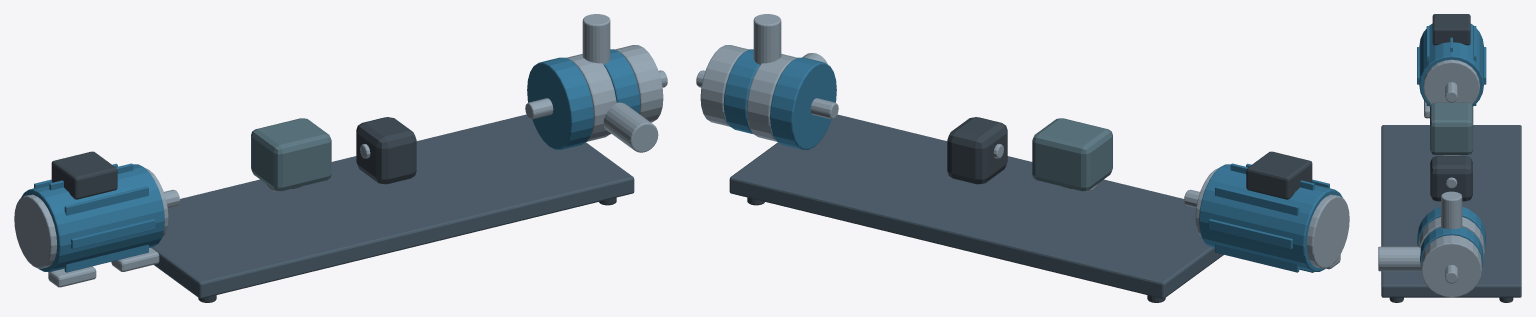
The model's file is feed-water-pump-lod1.glb.
The picture shows the model from 3 angles, left to right: view 1: azimuth 30°, elevation 25°; view 2: azimuth 150°, elevation 25°; view 3: azimuth 270°, elevation 25°; orthographic projection. The views are drawn at different scales.
Visible parts, largest first — view 1: drive_base, motor, coupling_guard, feed_water_stage_1, pump_drive_bearing_housing, motor_rear_endcap, motor_terminal_box, feed_water_stage_4, feed_water_inlet, feed_water_stage_2, feed_water_outlet, feed_water_stage_3 (+6 smaller); view 2: drive_base, motor, coupling_guard, feed_water_stage_1, pump_drive_bearing_housing, motor_rear_endcap, motor_terminal_box, feed_water_stage_2, feed_water_stage_4, feed_water_stage_3, feed_water_outlet, motor_cooling_fin_00 (+3 smaller); view 3: drive_base, feed_water_stage_4, coupling_guard, motor, motor_front_endcap, pump_drive_bearing_housing, motor_terminal_box, feed_water_inlet, feed_water_outlet, feed_water_stage_3, feed_water_stage_1, feed_water_stage_2 (+6 smaller).
Boxes of the visible parts, box(x1,y1,x2,y2) form: drive_base: box(151, 114, 634, 298); motor: box(21, 164, 164, 271); coupling_guard: box(251, 118, 331, 191); feed_water_stage_1: box(527, 57, 593, 149); pump_drive_bearing_housing: box(356, 117, 416, 184); motor_rear_endcap: box(14, 194, 57, 268); motor_terminal_box: box(51, 151, 117, 199); feed_water_stage_4: box(615, 45, 663, 122); feed_water_inlet: box(603, 102, 658, 152); feed_water_stage_2: box(566, 54, 616, 141); feed_water_outlet: box(582, 14, 610, 64); feed_water_stage_3: box(604, 49, 640, 134); drive_base: box(729, 114, 1223, 298); motor: box(1199, 164, 1342, 271); coupling_guard: box(1032, 118, 1112, 191); feed_water_stage_1: box(770, 57, 836, 149); pump_drive_bearing_housing: box(947, 117, 1007, 184); motor_rear_endcap: box(1306, 194, 1349, 268); motor_terminal_box: box(1246, 151, 1312, 199); feed_water_stage_2: box(747, 54, 797, 141); feed_water_stage_4: box(700, 45, 748, 126); feed_water_stage_3: box(723, 49, 759, 134); feed_water_outlet: box(753, 14, 781, 64); motor_cooling_fin_00: box(1208, 219, 1292, 249); drive_base: box(1381, 125, 1521, 297); feed_water_stage_4: box(1421, 235, 1481, 297); coupling_guard: box(1430, 102, 1473, 154); motor: box(1419, 23, 1483, 106); motor_front_endcap: box(1423, 59, 1479, 104); pump_drive_bearing_housing: box(1430, 156, 1472, 201); motor_terminal_box: box(1432, 14, 1470, 45); feed_water_inlet: box(1378, 246, 1421, 271); feed_water_outlet: box(1441, 191, 1462, 228); feed_water_stage_3: box(1420, 227, 1483, 268); feed_water_stage_1: box(1417, 207, 1485, 250); feed_water_stage_2: box(1418, 217, 1484, 259).
Size of the model in its own units: 12.63 by 2.87 by 3.27.
